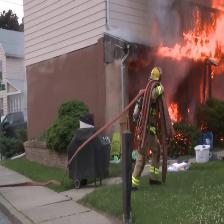fire: (151, 0, 224, 66), (163, 56, 205, 161)
